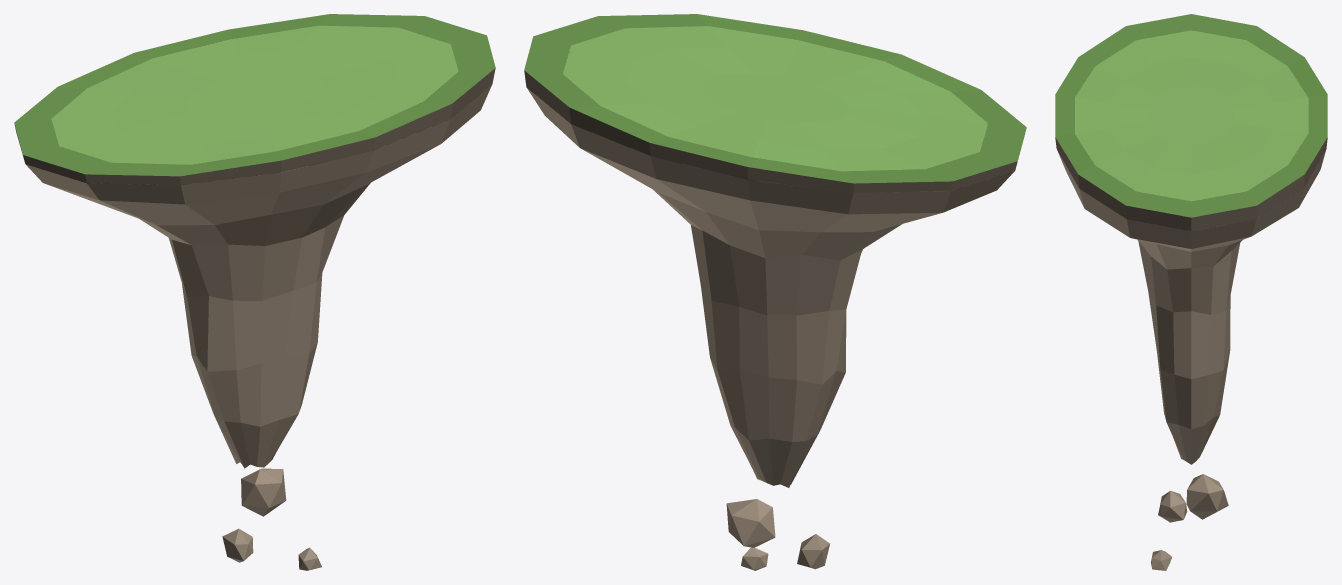
File: AST03d_Island04_Experience.glb
The picture shows the model from 3 angles, left to right: view 1: azimuth 30°, elevation 25°; view 2: azimuth 150°, elevation 25°; view 3: azimuth 270°, elevation 25°; orthographic projection. The views are drawn at different scales.
Parts seen in each view (by area): view 1: AST03d_Island04_Experience; view 2: AST03d_Island04_Experience; view 3: AST03d_Island04_Experience.
Boxes of the visible parts, x1=… form: AST03d_Island04_Experience: x1=14, y1=14, x2=495, y2=570; AST03d_Island04_Experience: x1=524, y1=14, x2=1026, y2=570; AST03d_Island04_Experience: x1=1055, y1=14, x2=1327, y2=570.
Bounding box in the file's own units: 16 × 15.68 × 8.8.
1 material, 1 textured.
